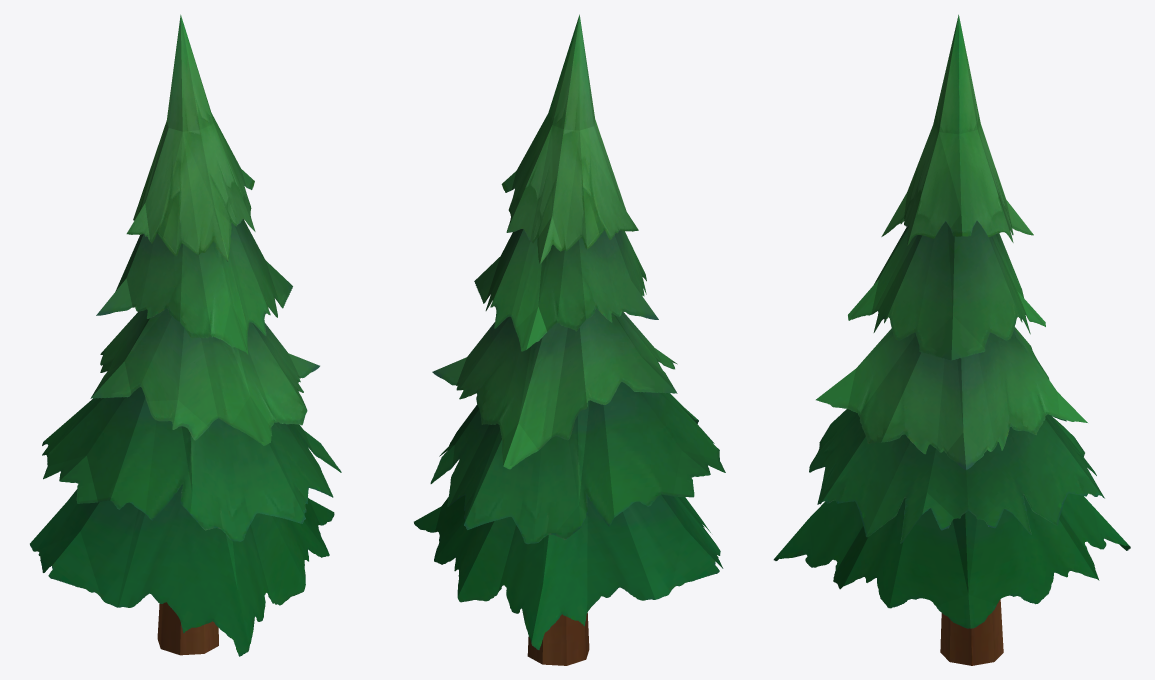
Rendered from caodi_shu_02.fbx.
3 renders of one model, left to right at view 1: azimuth 30°, elevation 25°; view 2: azimuth 150°, elevation 25°; view 3: azimuth 270°, elevation 25°, orthographic.
Visible parts, largest first — view 1: caodi_shu_02; view 2: caodi_shu_02; view 3: caodi_shu_02.
Boxes of the visible parts, bbox=[...] form: caodi_shu_02: bbox=[30, 14, 341, 656]; caodi_shu_02: bbox=[414, 14, 725, 665]; caodi_shu_02: bbox=[773, 14, 1130, 665].
Size of the model in its own units: 3.52 by 6.4 by 3.46.
